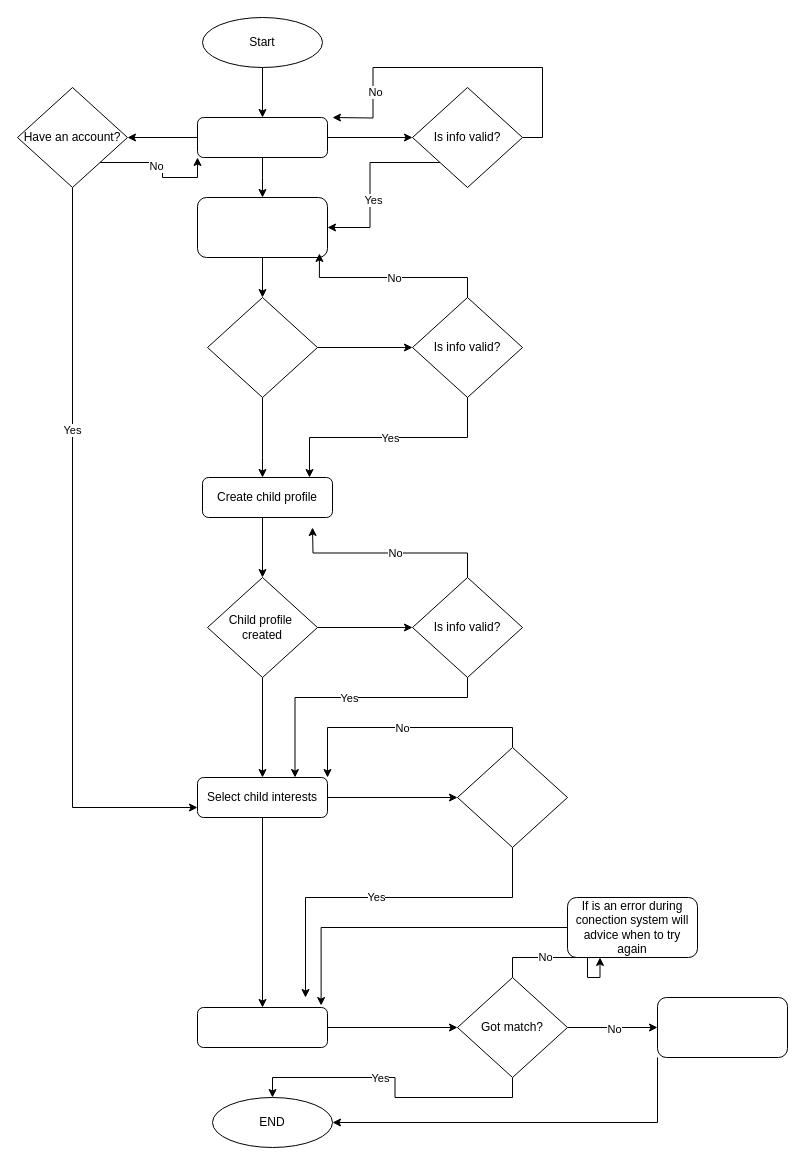
Some shapes in this 805 by 1165 pixel diagram are drawn without their labels. The centre of each missing label's shape, as x and y in pixels:
"Create family profile" belongs at [262,227].
"Family profile created" belongs at [262,347].
"Generate mactches" belongs at [262,1027].
"If no match system will advice when find a match" belongs at [722,1027].
"Select from list or describe it yourself at least one" belongs at [512,797].
"UserRegistry" belongs at [262,137].
